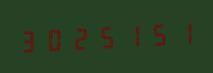five: (92, 20, 116, 52), (142, 18, 166, 49)
one: (117, 19, 141, 51), (167, 16, 191, 48)
three: (17, 24, 41, 56)
two: (67, 22, 91, 53)
zero: (42, 23, 66, 55)
